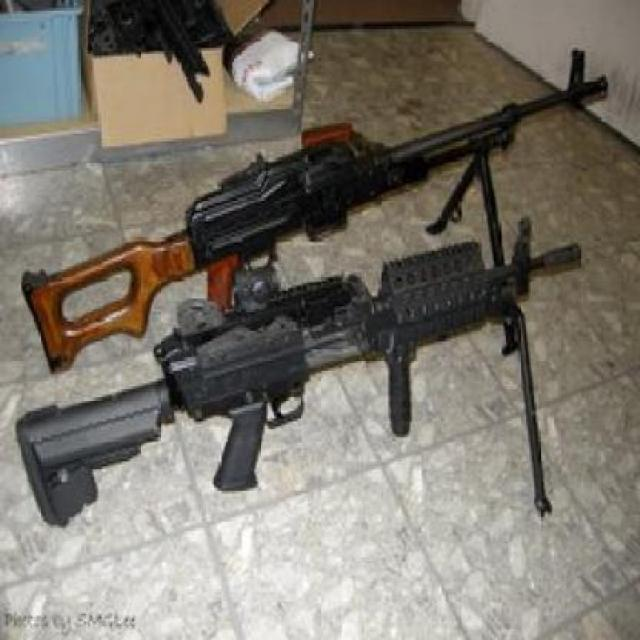weapon: (17, 41, 618, 353), (11, 213, 578, 529)
